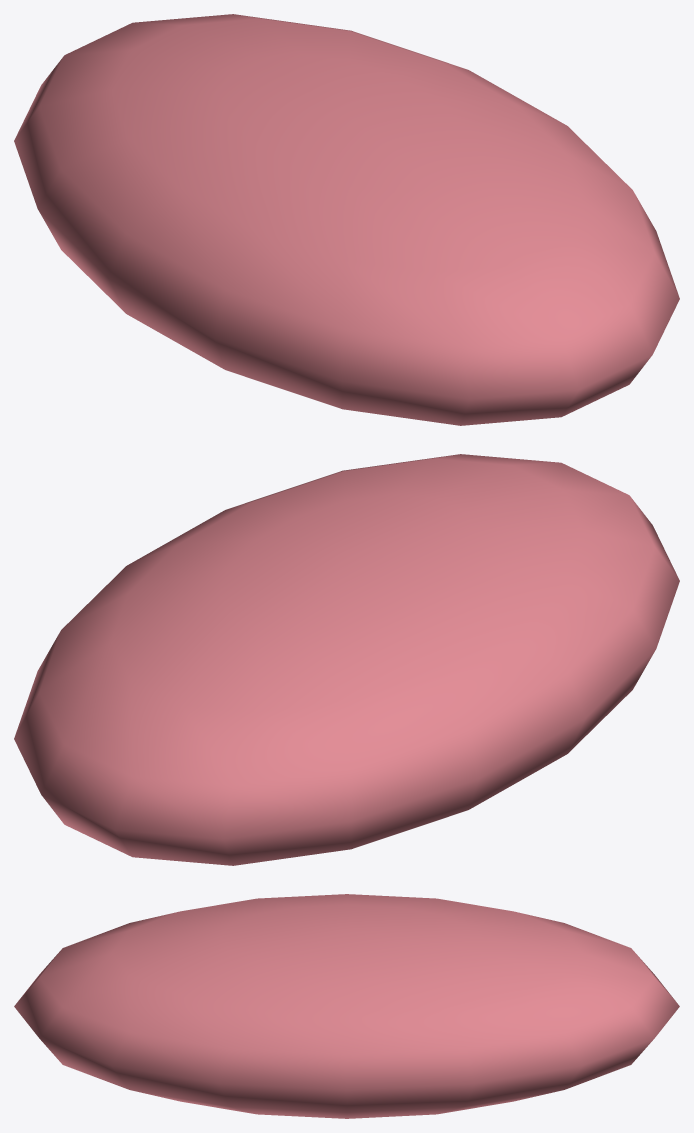
The model's file is cat_tongue.glb.
3 views of the same model, one above another, from view 1: azimuth 30°, elevation 25°; view 2: azimuth 150°, elevation 25°; view 3: azimuth 270°, elevation 25° (orthographic). The views are drawn at different scales.
Visible parts, largest first — view 1: Cat tongue; view 2: Cat tongue; view 3: Cat tongue.
Boxes of the visible parts, x1,y1,x2,y2 form: Cat tongue: (14, 14, 679, 425); Cat tongue: (14, 454, 679, 865); Cat tongue: (14, 894, 679, 1118).
Bounding box in the file's own units: 0.038 × 0.016 × 0.064.
